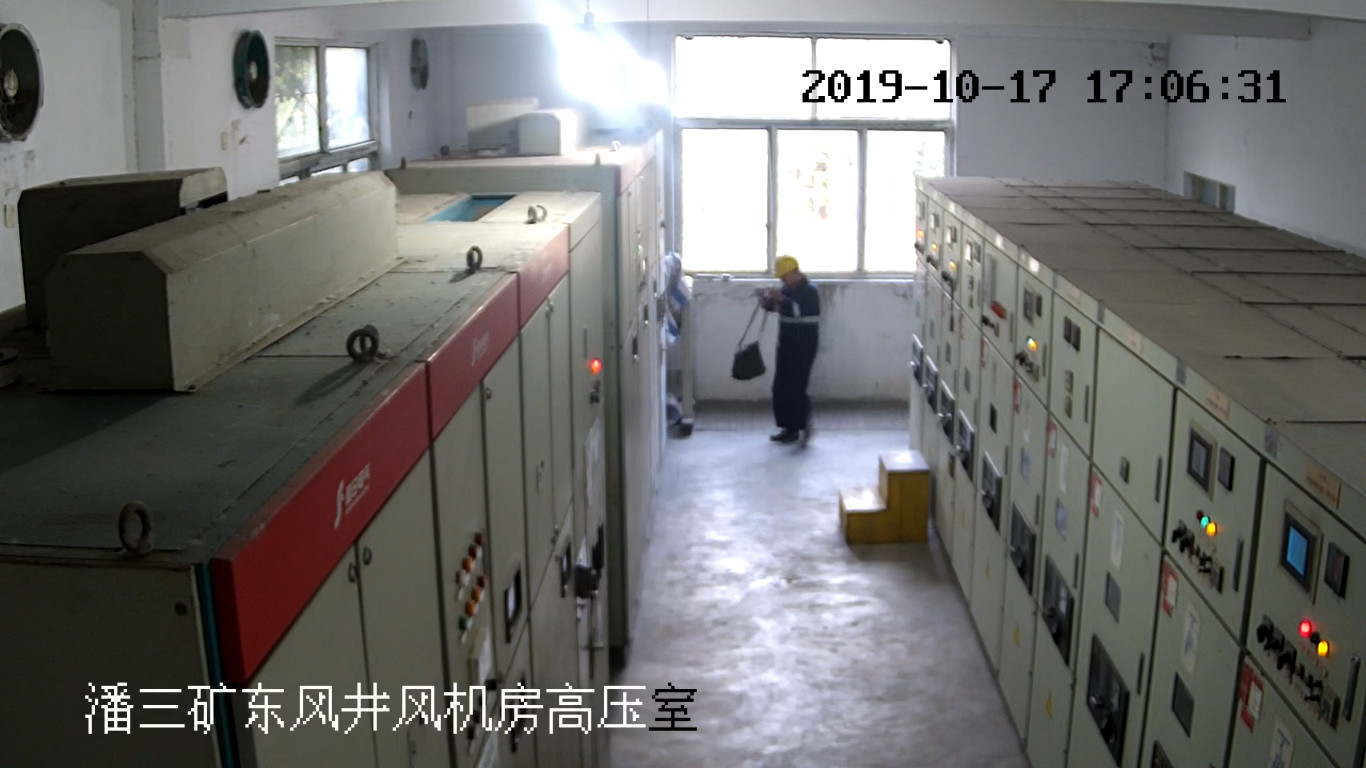helmet: (772, 255, 798, 277)
